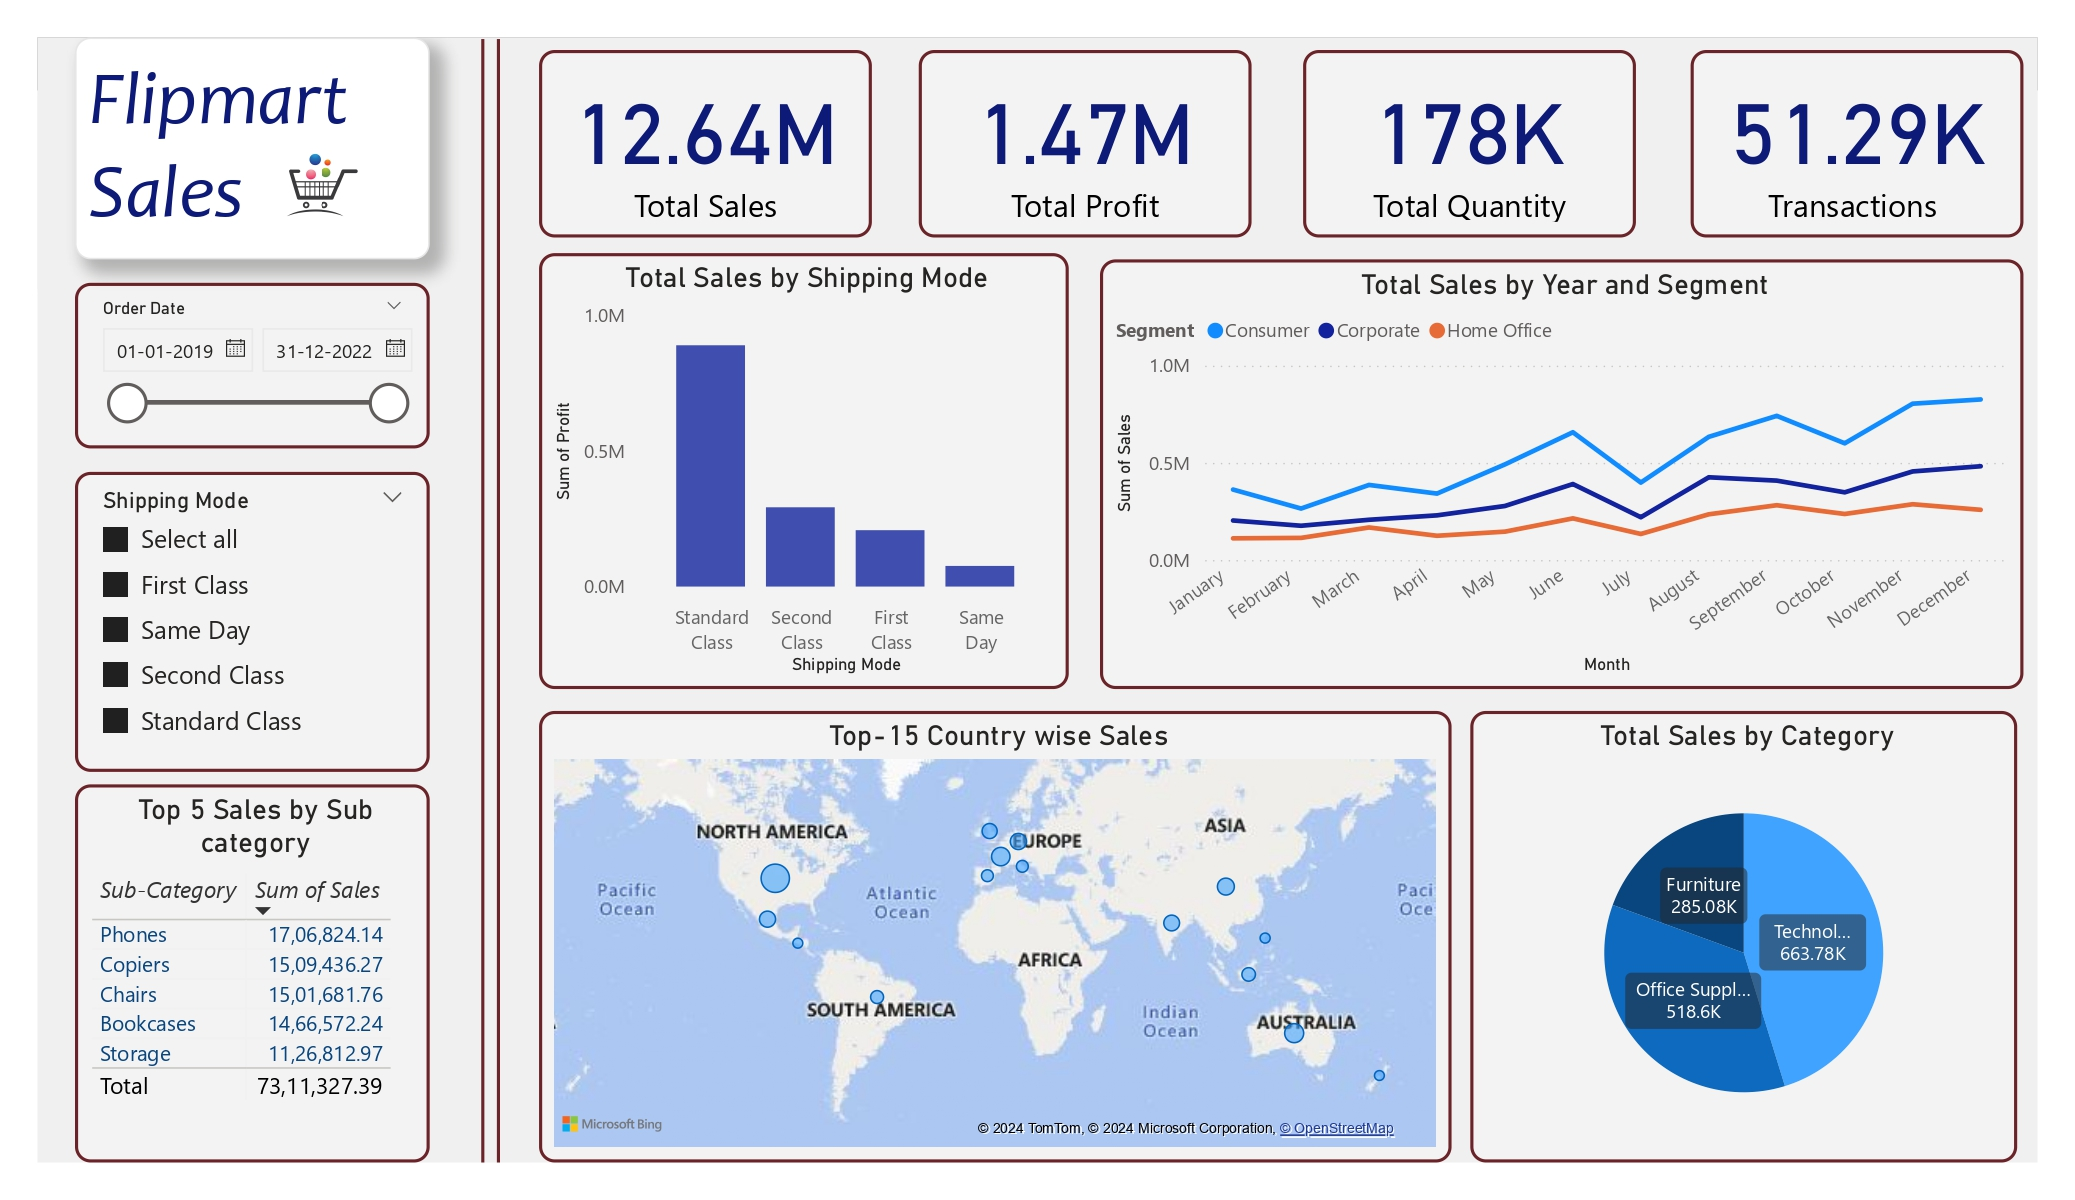

Layout of this report page (visuals, bound fields, positions):
{"tool":"powerbi","page":{"name":"Page 1","canvas":[1280,720],"ordinal":0},"visuals":[{"type":"card","fields":{"Values":["Sum(Sales.Sales)"]},"box":[320.9,8.1,212.8,119.8],"z":0},{"type":"columnChart","title":"Total Sales by Shipping Mode","fields":{"Category":["Sales.Shipping Mode"],"Y":["Sum(Sales.Profit)"]},"box":[320.9,138.4,339.5,279.1],"z":1000},{"type":"pieChart","title":"Total Sales by Category","fields":{"Category":["Sales.Category"],"Y":["Sum(Sales.Profit)"]},"box":[917.4,431.4,350,288.4],"z":2000},{"type":"card","fields":{"Values":["Sum(Sales.Profit)"]},"box":[564,8.1,212.8,119.8],"z":3000},{"type":"card","fields":{"Values":["Sum(Sales.Quantity)"]},"box":[810.5,8.1,212.8,119.8],"z":4000},{"type":"card","fields":{"Values":["CountNonNull(Sales.Order ID)"]},"box":[1058.1,8.1,212.8,119.8],"z":5000},{"type":"lineChart","title":"Total Sales by Year and Segment","fields":{"Y":["Sum(Sales.Sales)"],"Series":["Sales.Segment"],"Category":["Sales.Order Date.Variation.Date Hierarchy.Month"]},"box":[680.2,141.9,590.7,275.6],"z":6000},{"type":"map","title":"Top-15 Country wise Sales","fields":{"Size":["Sum(Sales.Sales)"],"Category":["Sales.Country"]},"box":[320.9,431.4,583.7,288.4],"z":7000},{"type":"tableEx","title":"Top 5 Sales by Sub category","fields":{"Values":["Sales.Sub-Category","Sum(Sales.Sales)"]},"box":[24.4,477.9,226.7,241.9],"z":8000},{"type":"slicer","fields":{"Values":["Sales.Shipping Mode"]},"box":[24.4,277.9,226.7,191.9],"z":9000},{"type":"slicer","fields":{"Values":["Sales.Order Date"]},"box":[24.4,157,226.7,105.8],"z":10000},{"type":"textbox","box":[24.1,0,226.8,142.4],"z":11000},{"type":"image","box":[147.2,61.5,66.4,66.4],"z":12000},{"type":"shape","box":[241.6,1.1,86.8,719.1],"z":13000},{"type":"shape","box":[251.6,1.1,86.8,719.1],"z":14000}]}

Visuals, with their boxes in screenshot pixels (x1, y1, x2, y2):
card - Sum(Sales.Sales): detection(539, 50, 871, 237)
"Total Sales by Shipping Mode" columnChart: detection(539, 254, 1069, 690)
"Total Sales by Category" pieChart: detection(1471, 712, 2018, 1162)
card - Sum(Sales.Profit): detection(919, 50, 1251, 237)
card - Sum(Sales.Quantity): detection(1304, 50, 1636, 237)
card - CountNonNull(Sales.Order ID): detection(1691, 50, 2023, 237)
"Total Sales by Year and Segment" lineChart: detection(1100, 259, 2023, 690)
"Top-15 Country wise Sales" map: detection(539, 712, 1451, 1162)
"Top 5 Sales by Sub category" tableEx: detection(76, 784, 430, 1162)
slicer - Sales.Shipping Mode: detection(76, 472, 430, 772)
slicer - Sales.Order Date: detection(76, 283, 430, 448)
textbox: detection(75, 38, 430, 260)
image: detection(268, 134, 371, 237)
shape: detection(415, 39, 551, 1162)
shape: detection(431, 39, 566, 1162)
